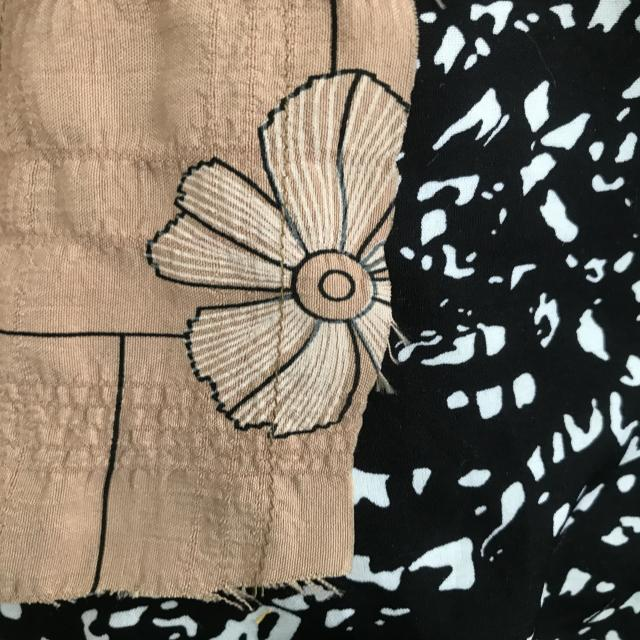good: (256, 452, 292, 560)
